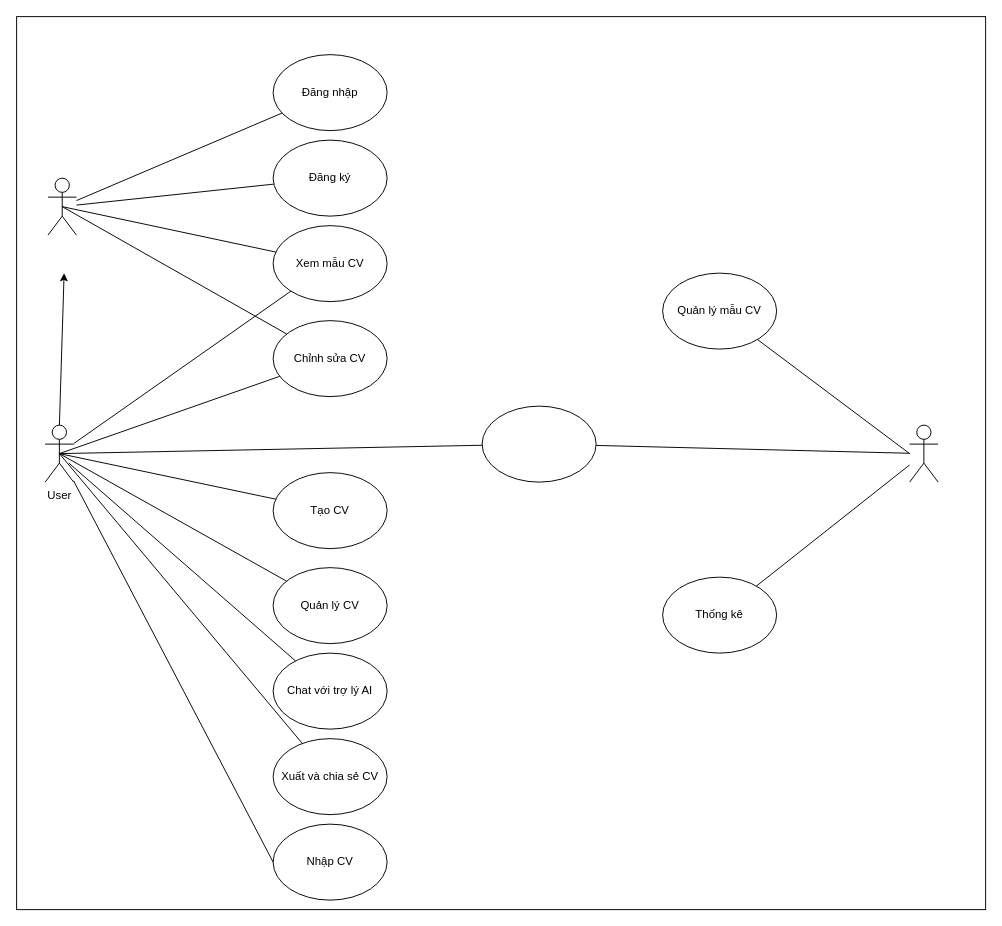
Image size: 1002x926. Some labels were removed from this diagram. The shapes that lost their labels are listed below. From the top down, each one's centre as x and y in pixels, then its label:
point 61,206: Guest
point 538,443: Quản lý tài khoản
point 923,453: Admin
